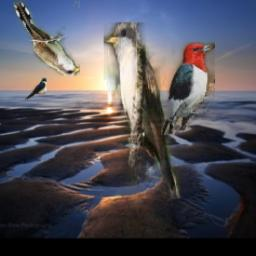Cuckoo: (105, 23, 181, 199), (13, 1, 80, 75)
Swallow: (25, 77, 48, 100)
Woodpecker: (161, 42, 215, 135)
